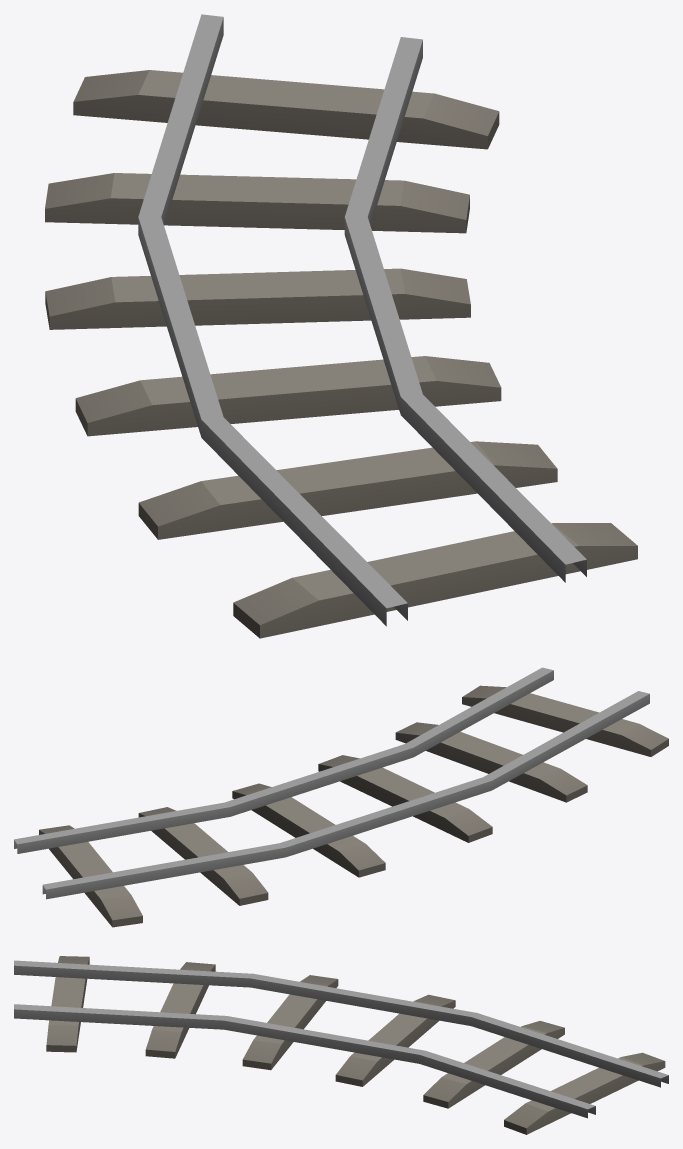
File: Railway_Line_45_R.fbx
3 views of the same model, one above another, from view 1: azimuth 30°, elevation 25°; view 2: azimuth 150°, elevation 25°; view 3: azimuth 270°, elevation 25° (orthographic). The views are drawn at different scales.
Parts seen in each view (by area): view 1: Railway_Line_45_R; view 2: Railway_Line_45_R; view 3: Railway_Line_45_R.
Part boxes in pixels (x1,y1,x2,y2): Railway_Line_45_R: (45,14,637,638); Railway_Line_45_R: (14,667,668,927); Railway_Line_45_R: (14,956,668,1134).
Bounding box in the file's own units: 874 × 51.82 × 1403.
